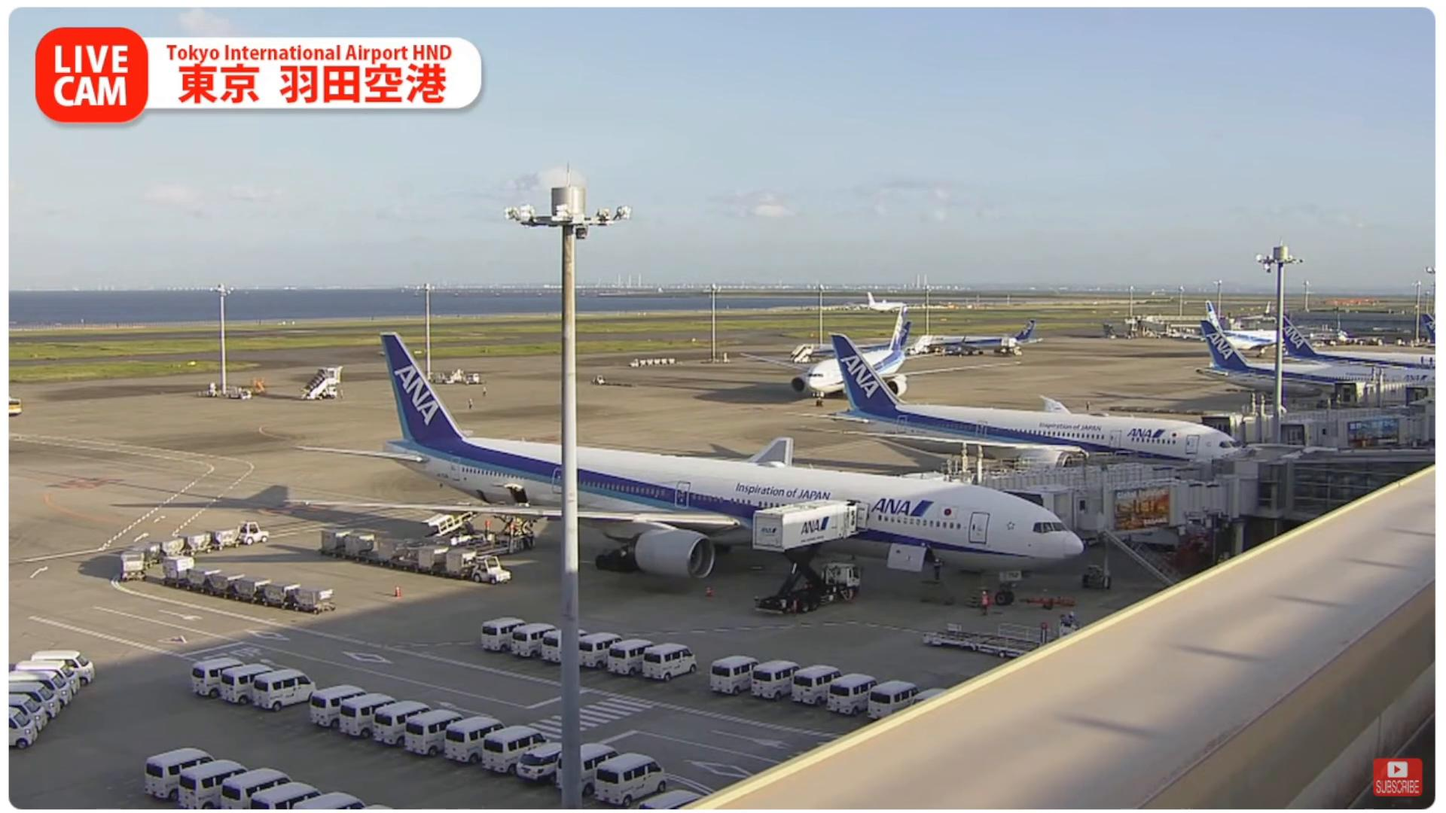Aerobridge: (990, 474, 1217, 523), (903, 458, 1204, 486)
Airplane: (290, 334, 1085, 584)
Catering: (752, 497, 860, 615)
Dolly: (160, 555, 336, 615), (317, 527, 479, 580), (119, 528, 241, 580)
JCPL: (908, 613, 1071, 657), (418, 510, 538, 567)
Skyloader: (419, 512, 479, 546)
Tractor: (470, 552, 513, 584), (238, 521, 270, 544)
Window: (1253, 443, 1435, 520)
